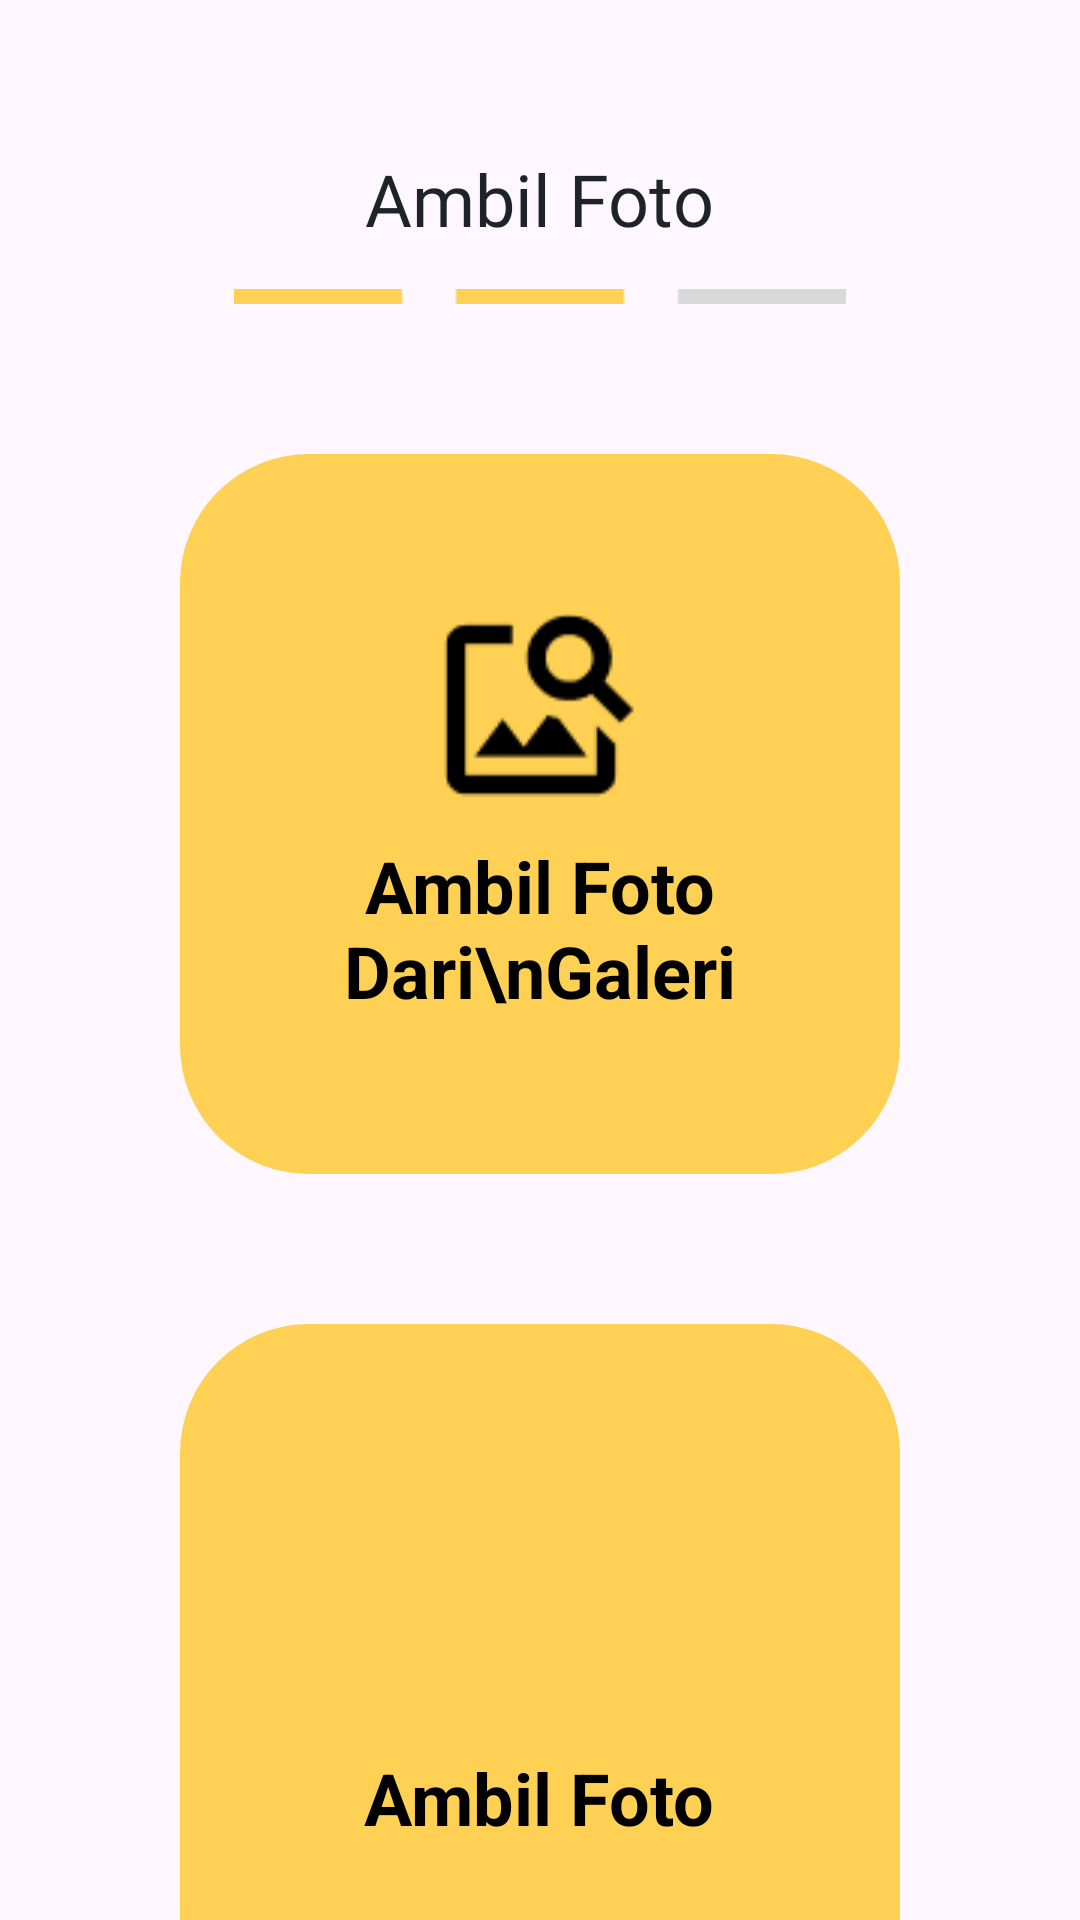

Screen size 1080*1920. Icon name, then its box in pixels as {"left": x1, "top": y1, "right": x2, "bottom": y2}:
search: {"left": 444, "top": 614, "right": 634, "bottom": 797}
